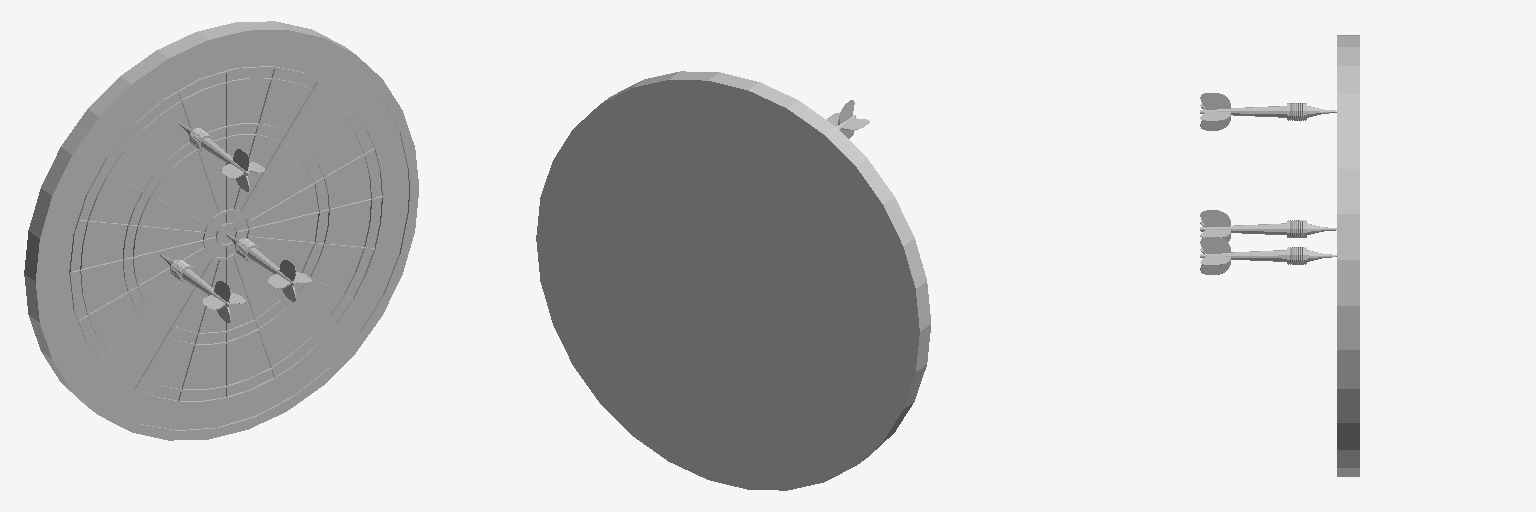
The model's file is dart_board3.obj.
3 views of the same model, side by side, from view 1: azimuth 30°, elevation 25°; view 2: azimuth 150°, elevation 25°; view 3: azimuth 270°, elevation 25° (orthographic).
Visible parts, largest first — view 1: ________0; view 2: ________0; view 3: ________0.
Part boxes in pixels (left/top/right/bottom): ________0: left=24, top=21, right=418, bottom=440; ________0: left=536, top=71, right=930, bottom=490; ________0: left=1200, top=35, right=1359, bottom=476.
Bounding box in the file's own units: 0.2123 × 0.2112 × 0.0765.